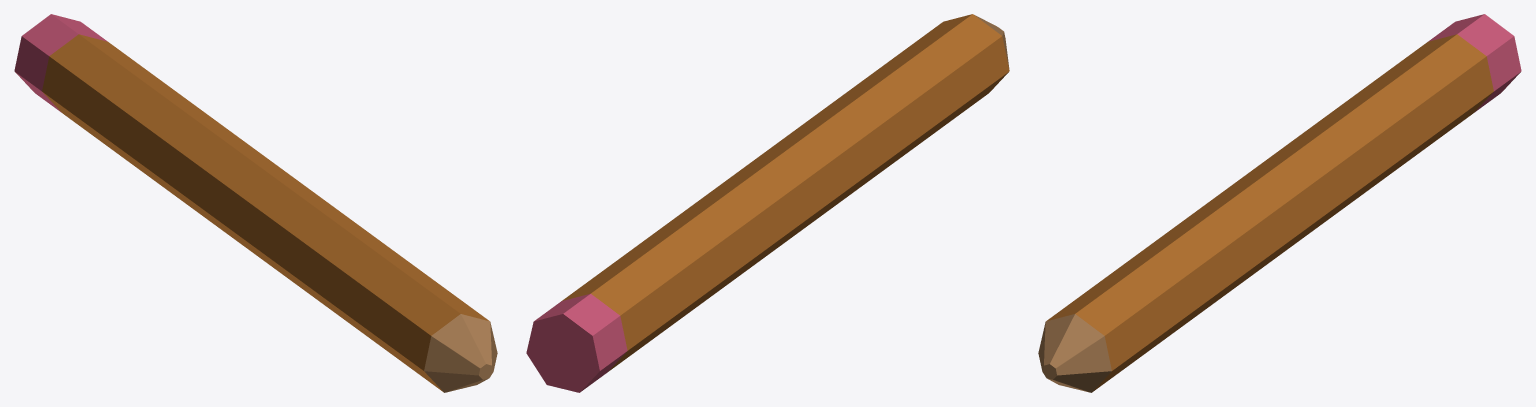
The model's file is pencil.fbx.
The picture shows the model from 3 angles, left to right: view 1: azimuth 30°, elevation 25°; view 2: azimuth 150°, elevation 25°; view 3: azimuth 330°, elevation 25°; orthographic projection.
Visible parts, largest first — view 1: Cylinder; view 2: Cylinder; view 3: Cylinder.
Boxes of the visible parts, <box> form: Cylinder: <box>14,14,497,392</box>; Cylinder: <box>526,14,1009,392</box>; Cylinder: <box>1038,14,1521,392</box>.
Bounding box in the file's own units: 195 × 190 × 1996.
Materials: 1 (1 with a texture image).
